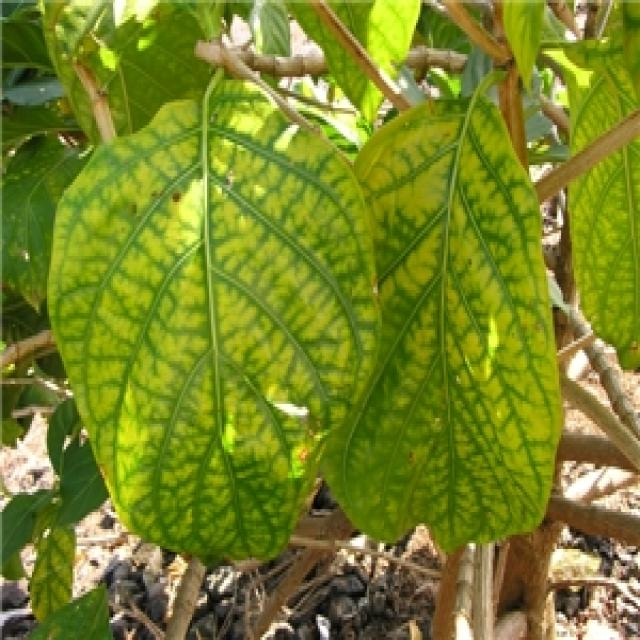Chlorosis: (44, 76, 545, 554)
